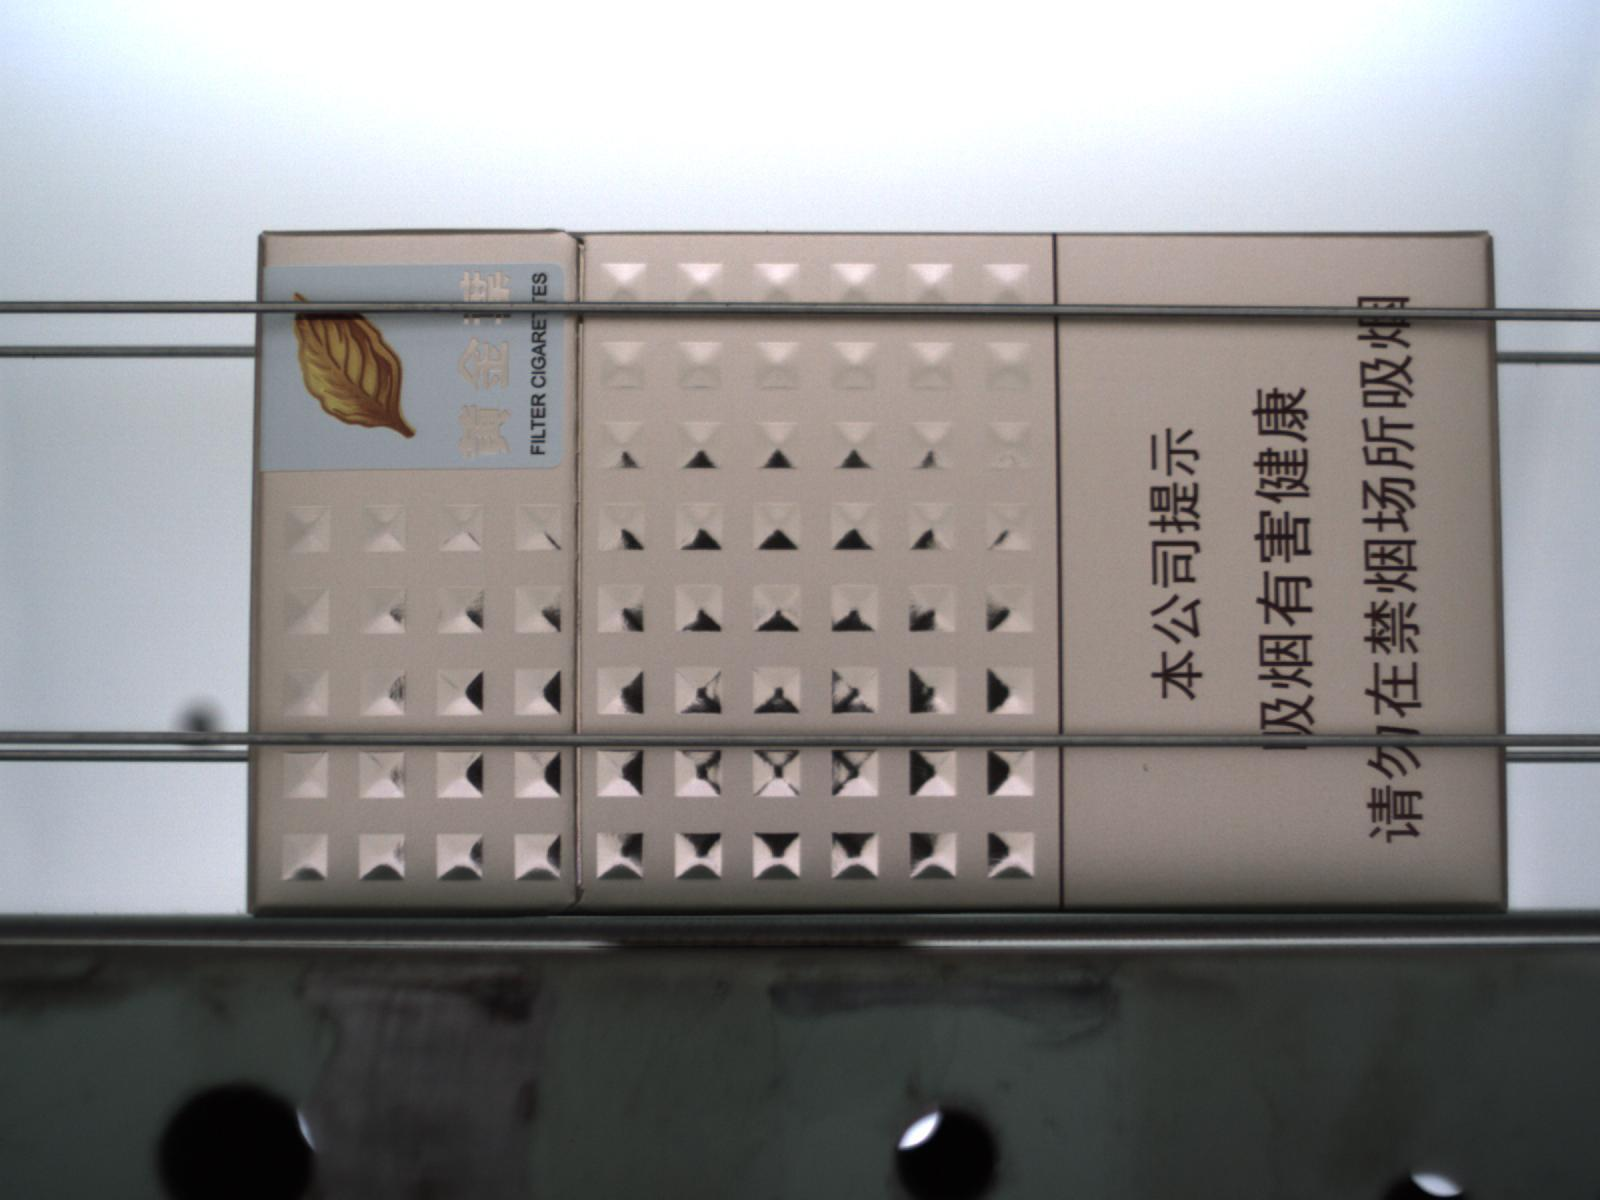dirtySpot: (1136, 760, 1154, 778)
